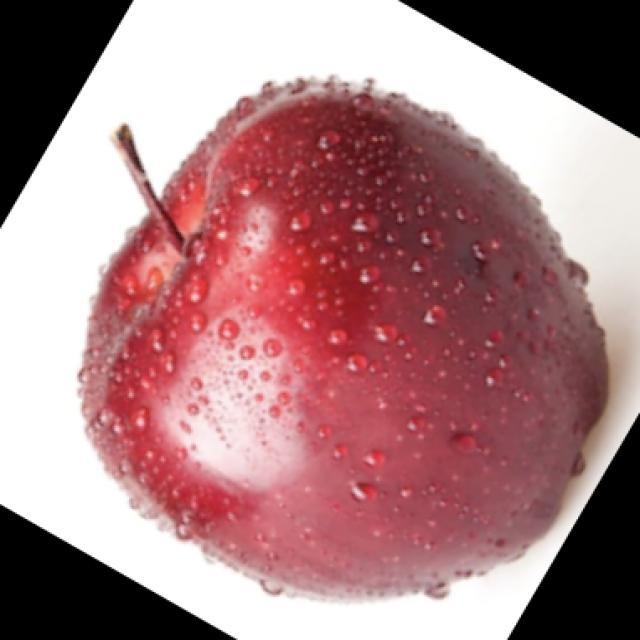Fresh Apple: (108, 83, 640, 623)
